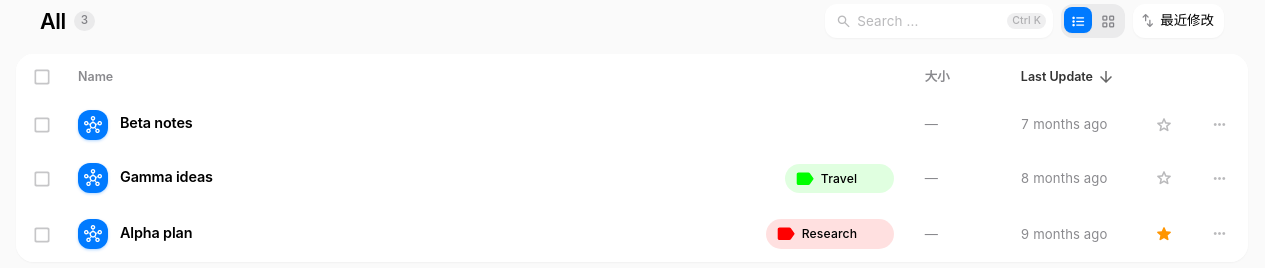
Scenario: MapsList › the search box narrows the list by title, ignoring case
The image size is (1265, 268).
Type "GAMMA" into the field named "Search maps" at (939, 21), box [825, 6, 1053, 36]
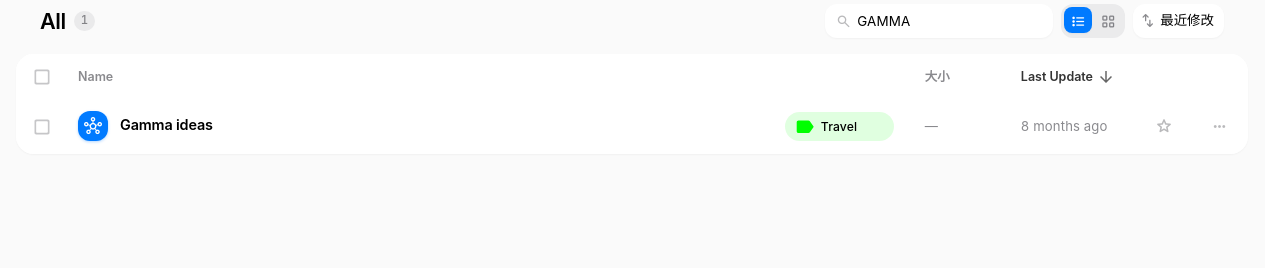
Replace the text in the field named "Search maps" with "nothing like this" at (939, 21), box [825, 6, 1053, 36]
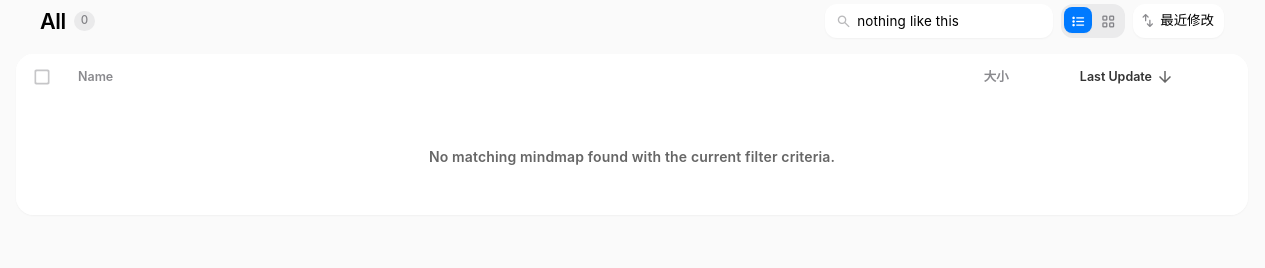
Expected: the text "No matching mindmap found with the current filter criteria." is shown once, [16, 99, 1248, 215]
